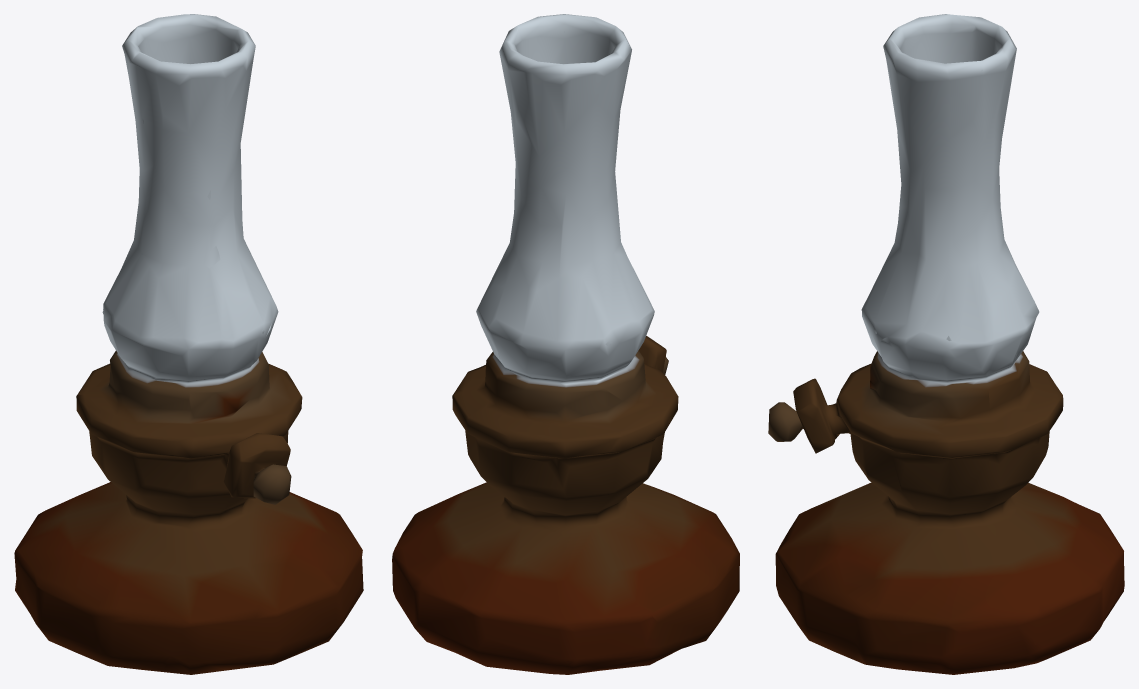
File: gen3d-oil-lamp-lod0.glb
The picture shows the model from 3 angles, left to right: view 1: azimuth 30°, elevation 25°; view 2: azimuth 150°, elevation 25°; view 3: azimuth 270°, elevation 25°; orthographic projection.
Visible parts, largest first — view 1: part_0; view 2: part_0; view 3: part_0.
Part boxes in pixels (bbox=[...]): part_0: bbox=[14, 14, 363, 674]; part_0: bbox=[392, 14, 739, 674]; part_0: bbox=[768, 14, 1124, 674].
Size of the model in its own units: 0.5548 by 1 by 0.5681.
